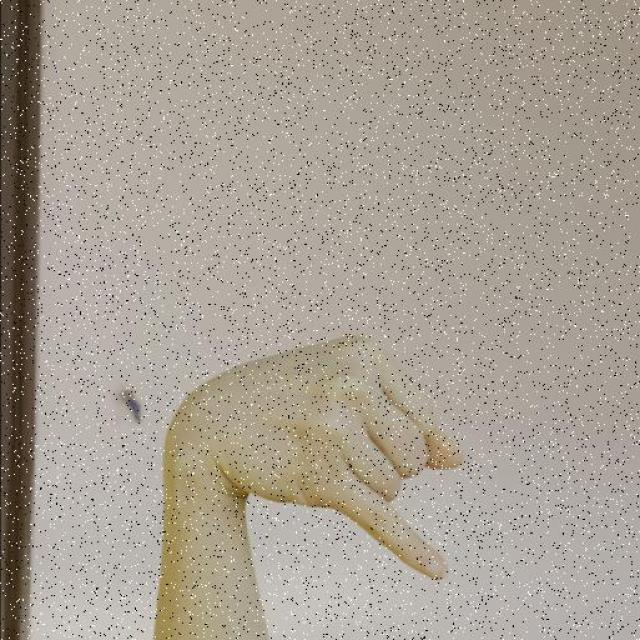J: (159, 331, 469, 584)
